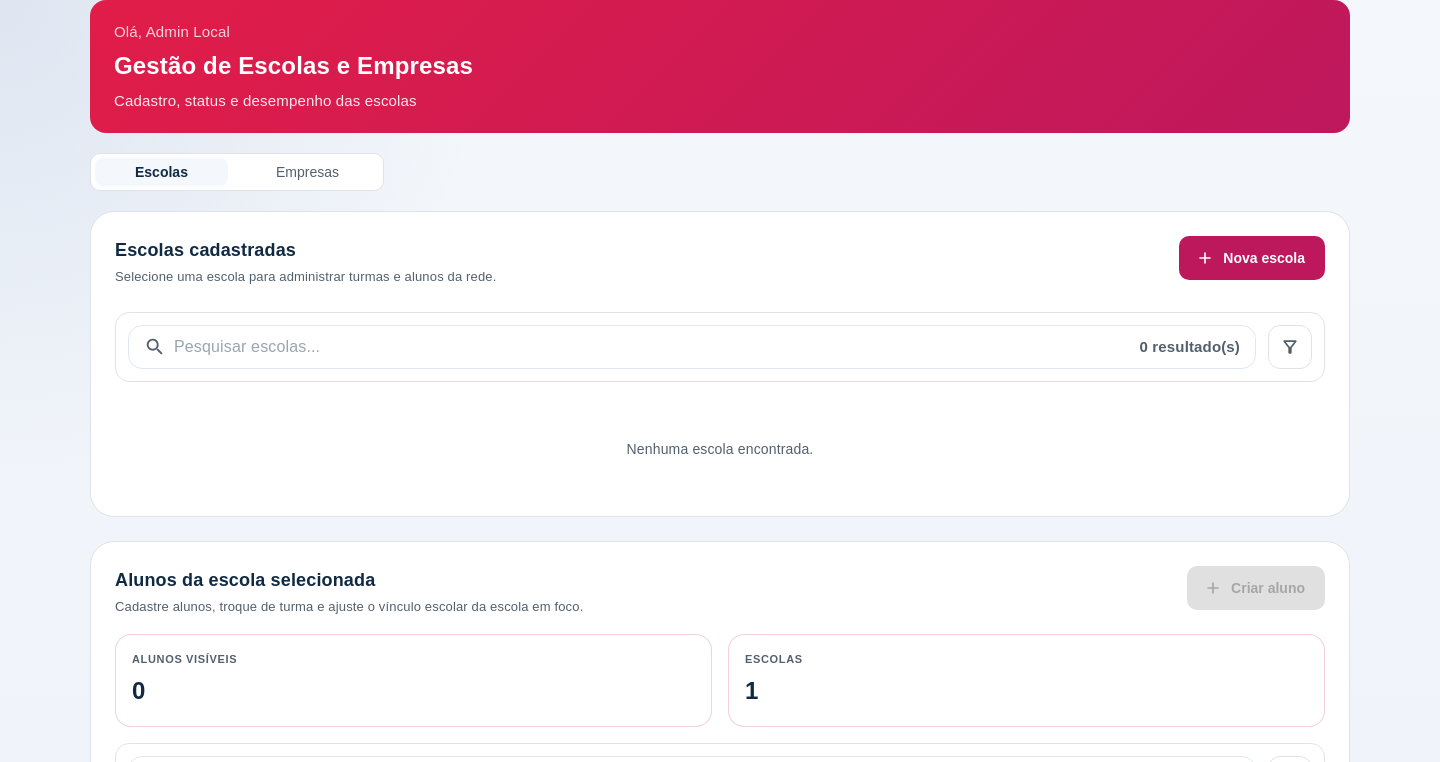
Scenario: SchoolCompanyPage approves a pending partnership
What coordinates should you click on to do the following:
click the button with test id "toggle-empresa"
I would click on:
 (307, 172)
Its box is [236,158,379,186].
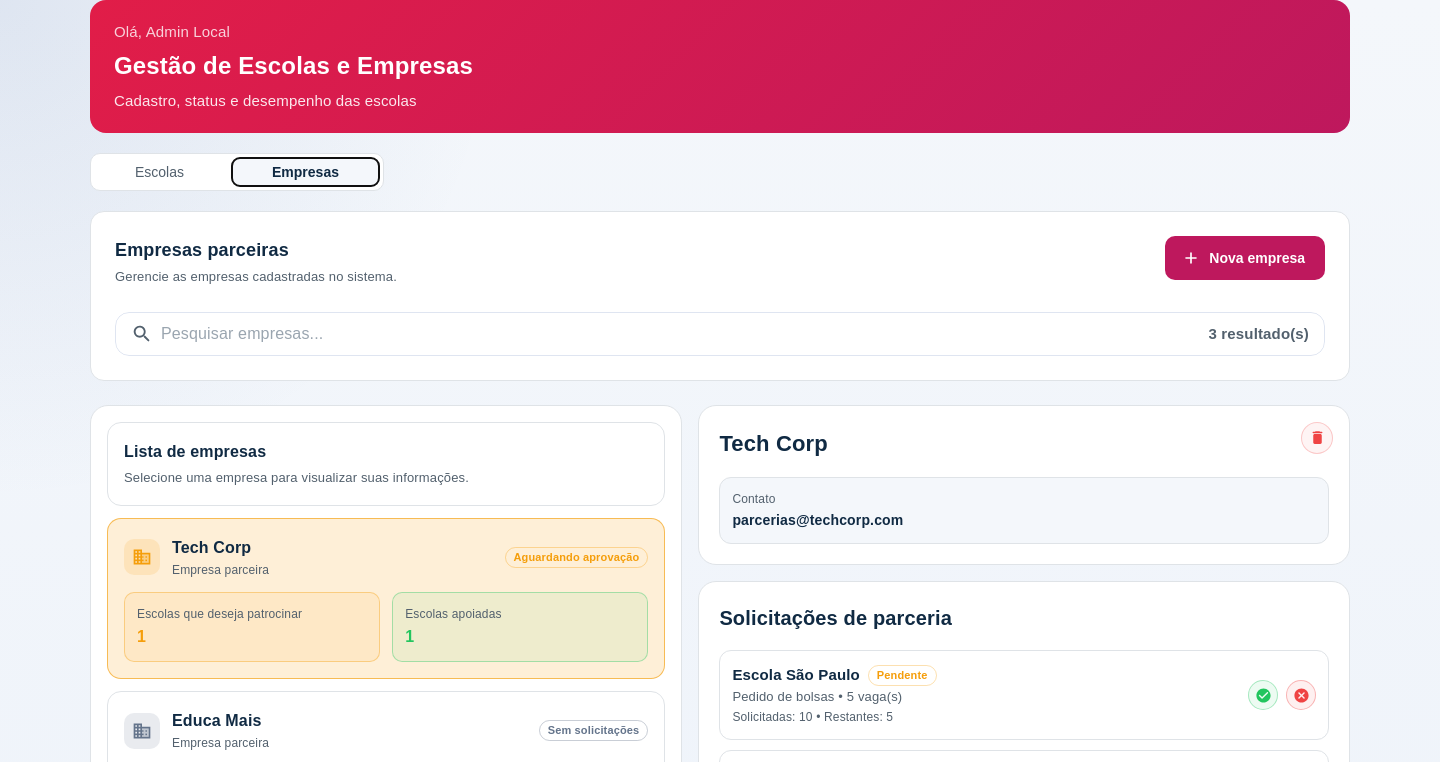
Result: the element with test id "company-item-company-1" is shown at [107,518,665,680]
What coordinates should you click on to do the following:
click the button with test id "approve-partnership-partnership-1"
I would click on:
 (1263, 695)
Its box is [1248,680,1278,710].
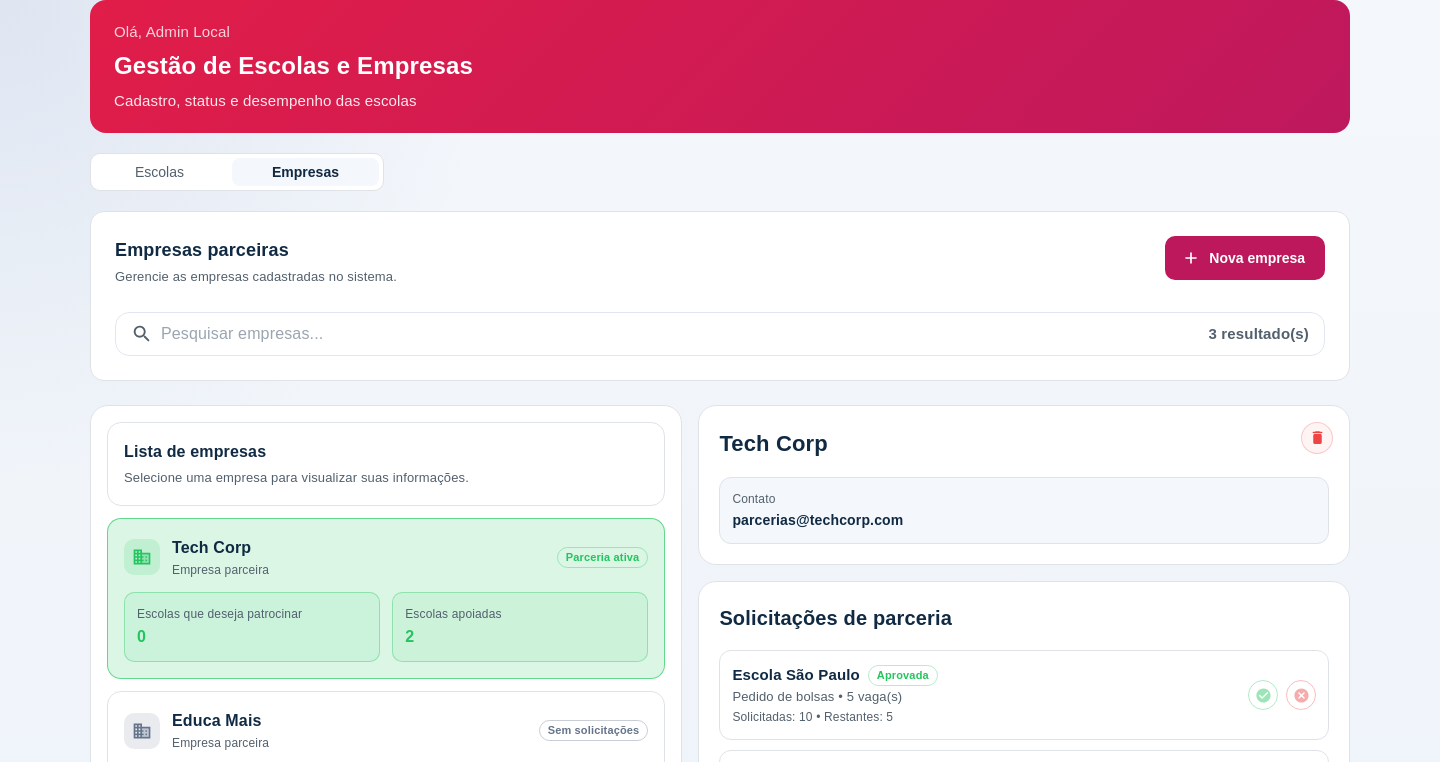
Result: the text with test id "company-company-1-pending-schools" reads "0" at [137,628,146,645]
Result: the text with test id "company-company-1-supported-schools" reads "2" at [405,628,414,645]
Result: the text "Parceria ativa" is shown at [557,547,648,568]
